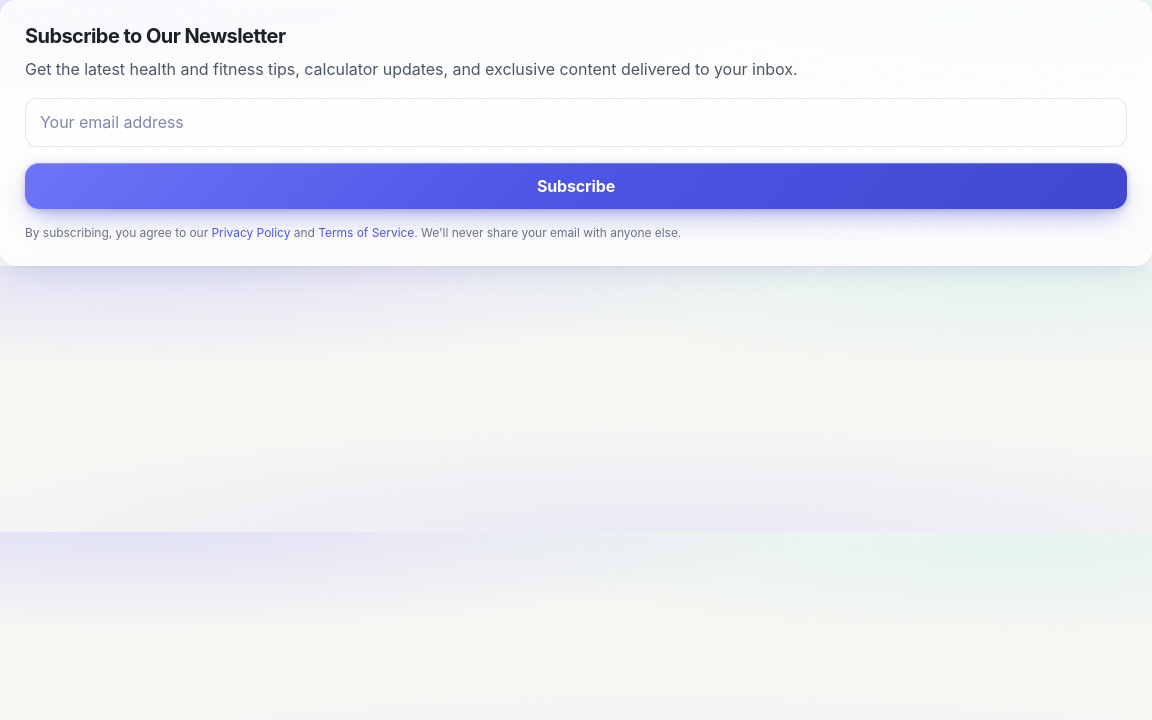
Test: NewsletterSignup › Accessibility › should display error message with alert role
This screenshot has width=1152, height=720.
Type "test@example.com" into the field labelled "Your email address" at (576,123), box [25, 98, 1127, 147]
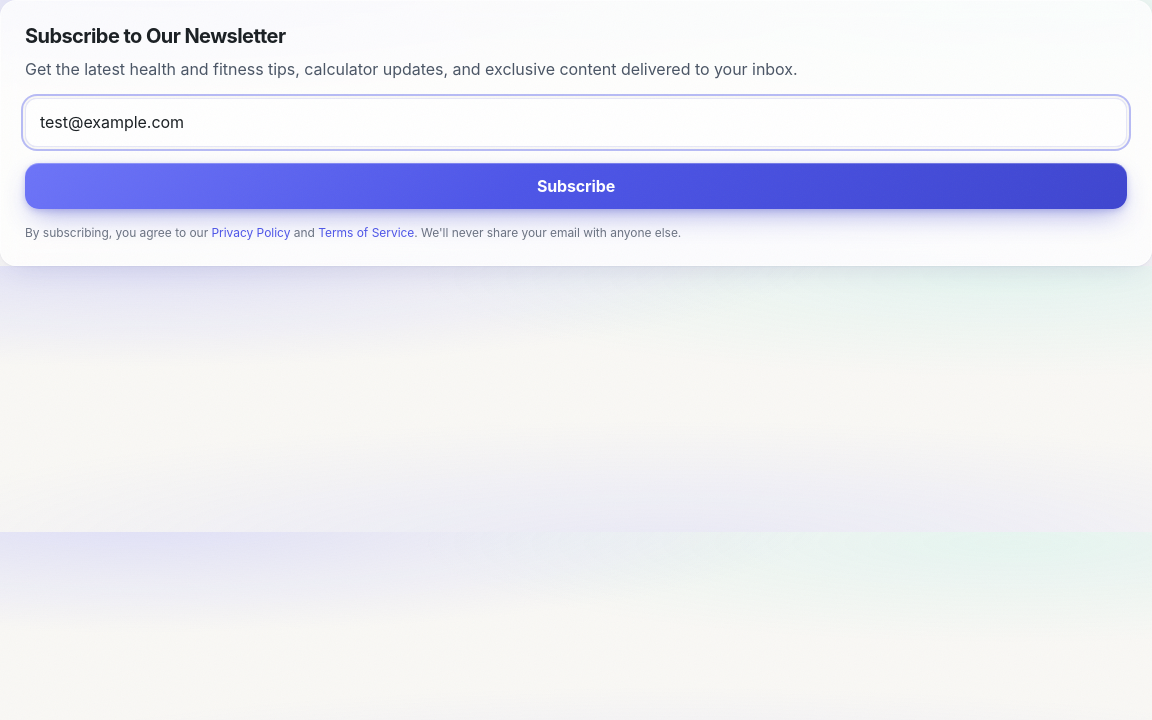
Click the button "Subscribe" at (576,186), box [25, 163, 1127, 209]
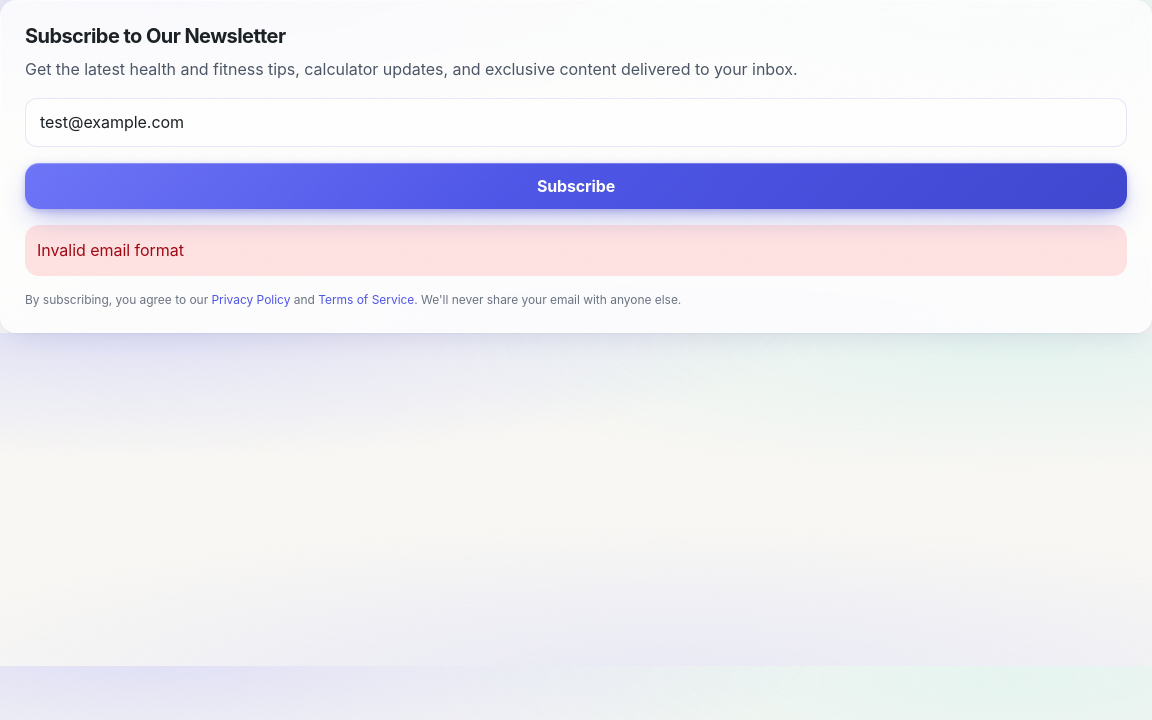
Expected: the message "Invalid email format" is shown, [25, 225, 1127, 276]
Expected: the message reads "Invalid email format", [37, 240, 184, 260]
